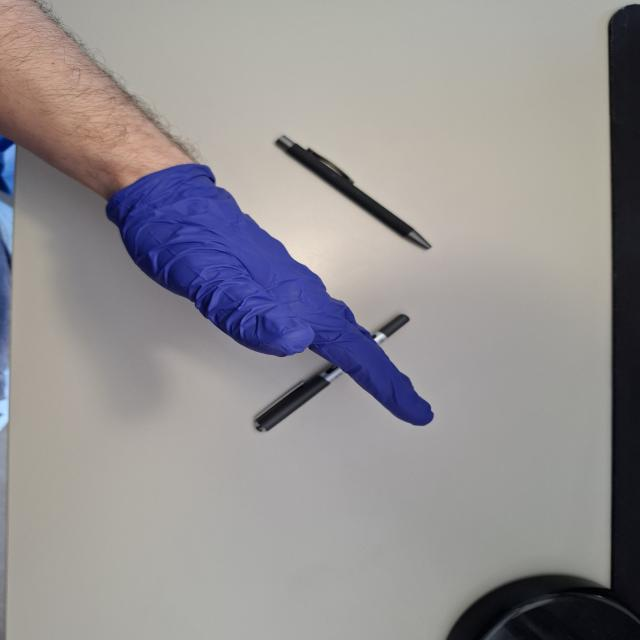glove_on: (103, 152, 436, 429)
